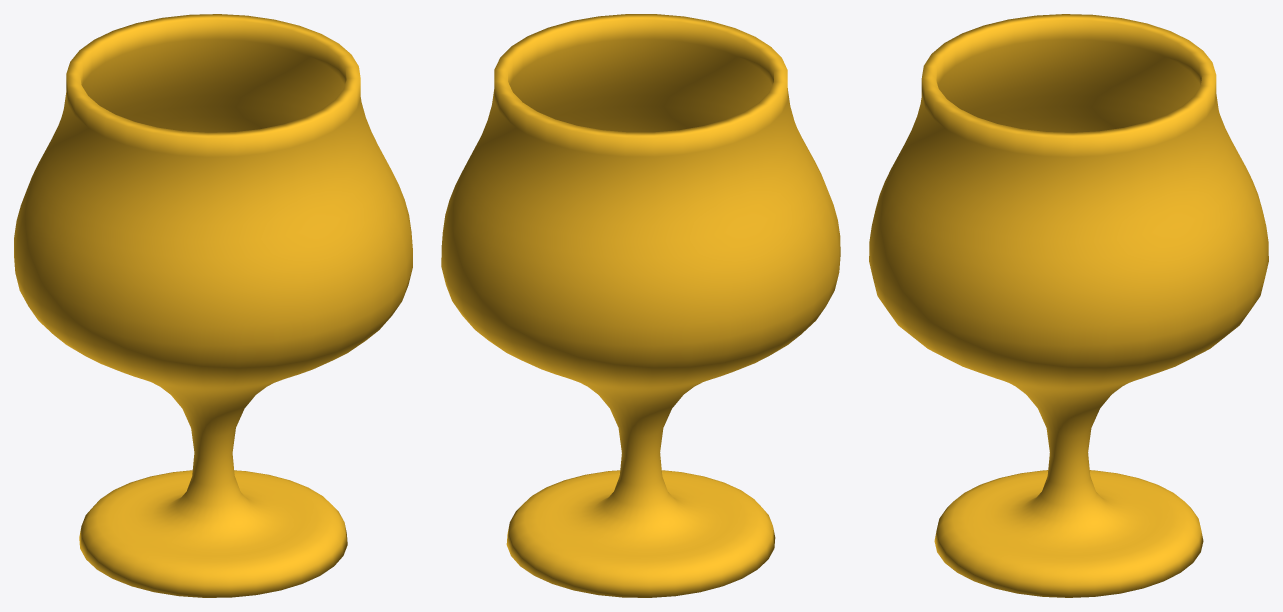
File: Caliz.fbx
The picture shows the model from 3 angles, left to right: view 1: azimuth 30°, elevation 25°; view 2: azimuth 150°, elevation 25°; view 3: azimuth 270°, elevation 25°; orthographic projection.
Visible parts, largest first — view 1: CorbaBézier; view 2: CorbaBézier; view 3: CorbaBézier.
Boxes of the visible parts, left/top/right/bottom form: CorbaBézier: left=14, top=14, right=412, bottom=597; CorbaBézier: left=441, top=14, right=840, bottom=597; CorbaBézier: left=869, top=14, right=1268, bottom=597.
Size of the model in its own units: 323 by 416 by 323.
